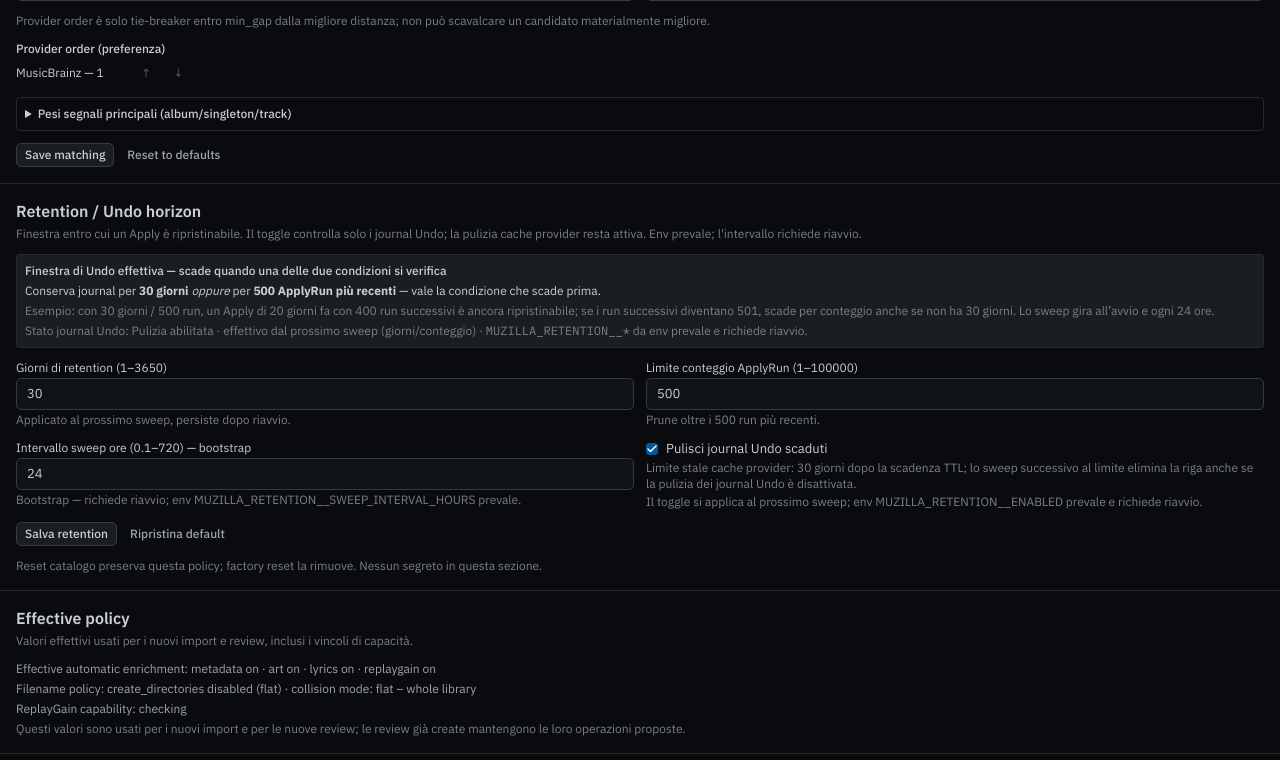
Settings › retention section renders effective Undo window and labels draft pending when unsaved
This screenshot has width=1280, height=760.
(page scrolled)
Expected: the text "Finestra di Undo effettiva" is shown, [25,263,446,278]
Expected: the text "Pulisci journal Undo scaduti" is shown, [666,440,828,458]
# edit draft to differ from effective
Clear the number field labelled "Giorni di retention" at (325, 394), box [16,378,634,410]
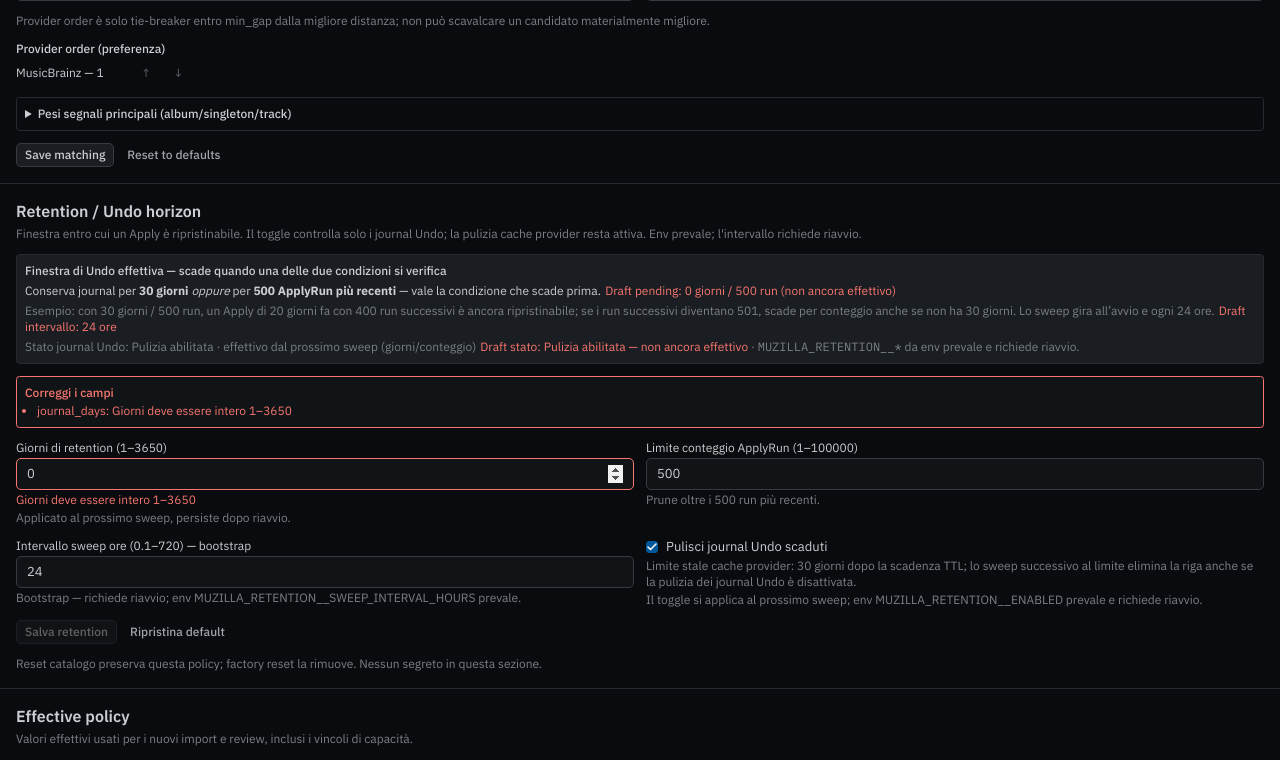
Type "7" into the number field labelled "Giorni di retention" at (325, 474), box [16,458,634,490]
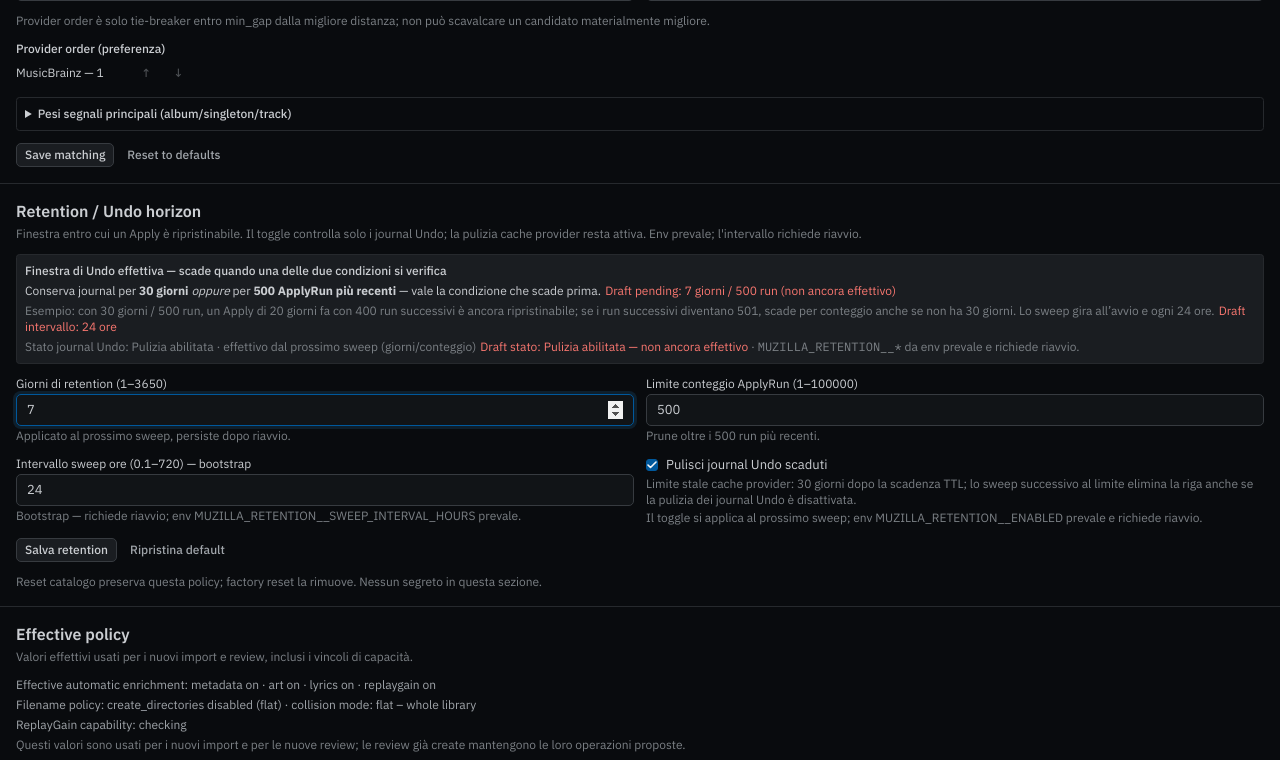
Expected: the text "Conserva journal per" shows "30 giorni", [25,283,896,298]
Now the text "Draft pending: 7 giorni / 500 run (non ancora effettivo)" is shown, box [605,283,896,298]
# changing count also shows pending
Clear the number field labelled "Limite conteggio ApplyRun" at (955, 410), box [646,394,1264,426]
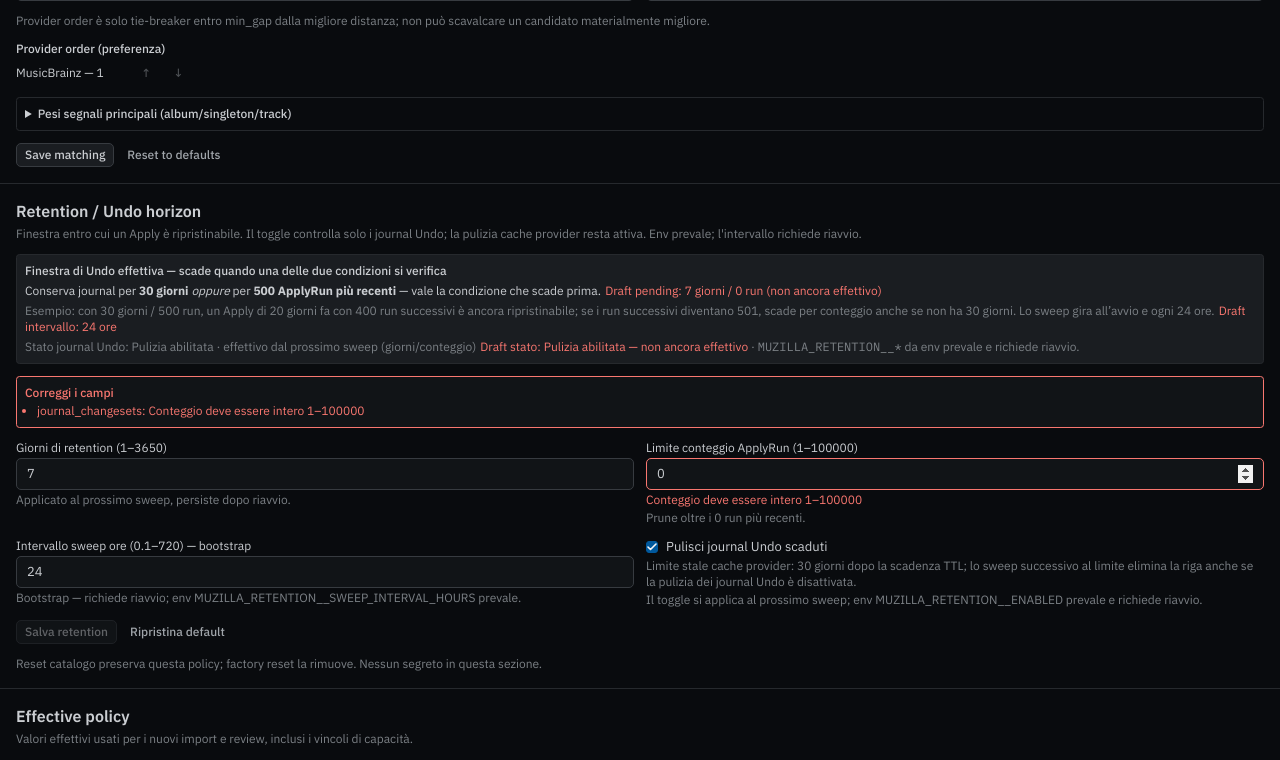
Type "100" into the number field labelled "Limite conteggio ApplyRun" at (955, 474), box [646,458,1264,490]
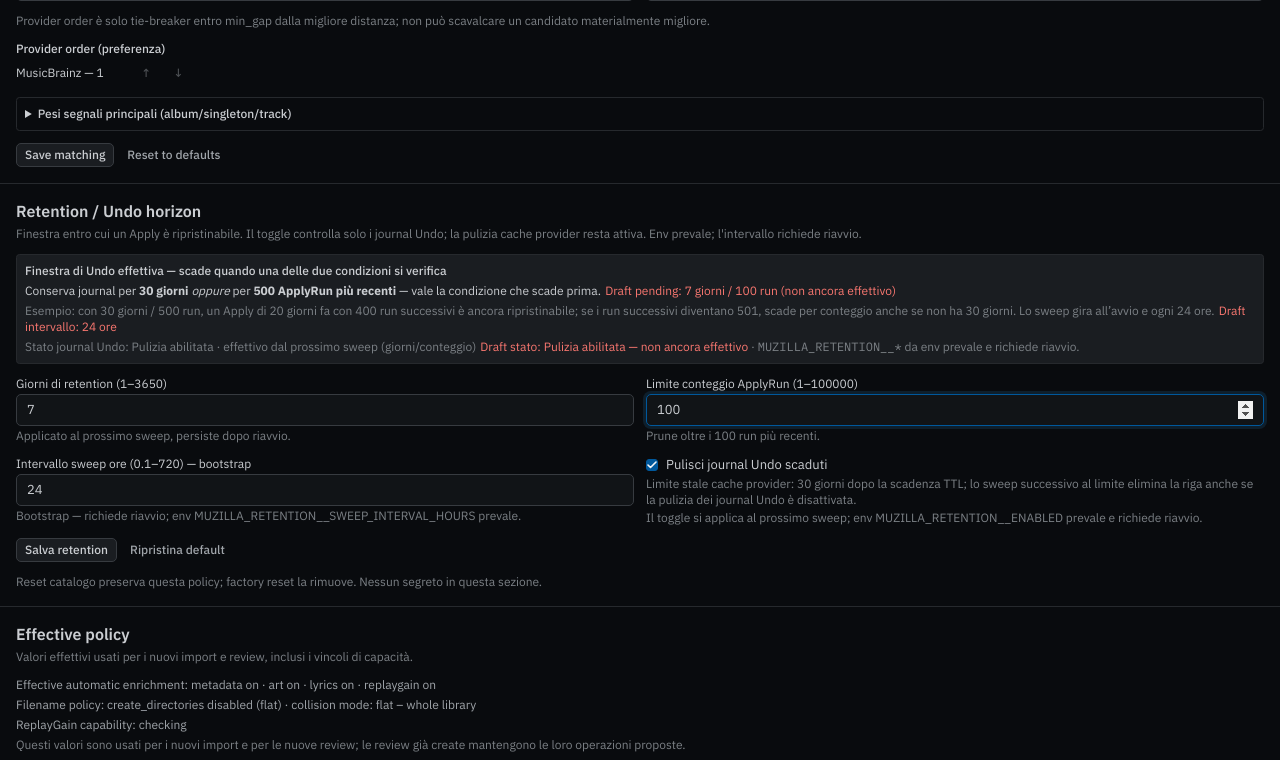
Now the text "Draft pending: 7 giorni / 100 run (non ancora effettivo)" is shown, box [605,283,896,298]
